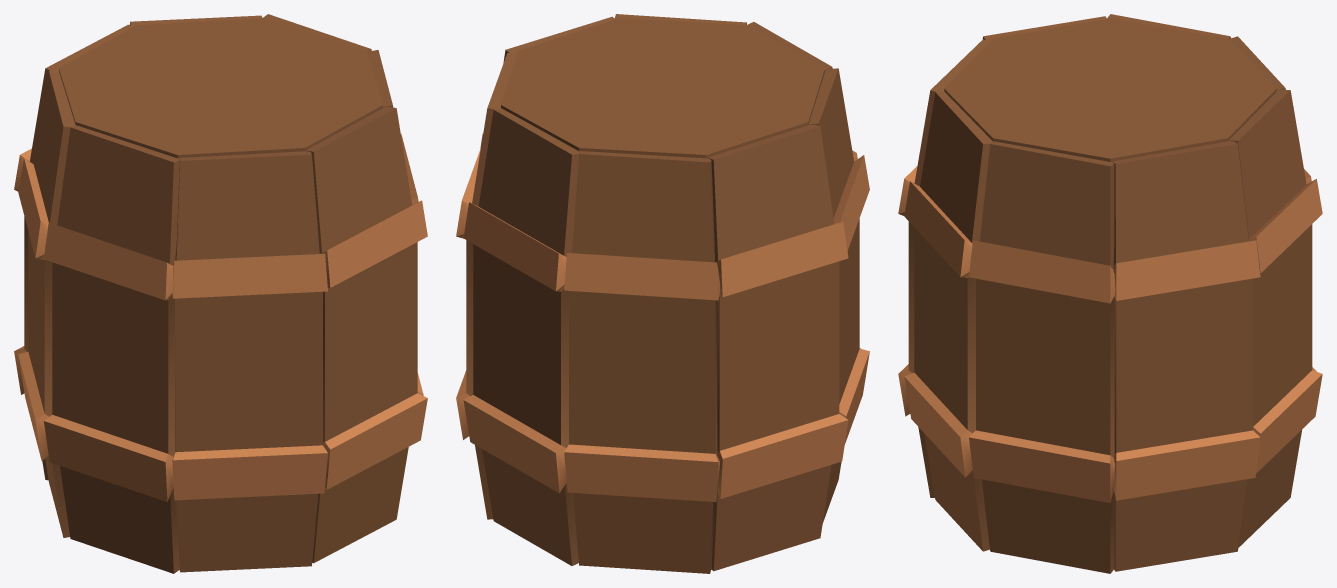
File: cask_broken.fbx
3 renders of one model, left to right at view 1: azimuth 30°, elevation 25°; view 2: azimuth 150°, elevation 25°; view 3: azimuth 270°, elevation 25°, orthographic.
Visible parts, largest first — view 1: cask_broken, cask_broken001, cask_broken007, cask_broken008, cask_broken002, cask_broken003, cask_broken006, cask_broken005, cask_broken004; view 2: cask_broken003, cask_broken002, cask_broken004, cask_broken008, cask_broken001, cask_broken005, cask_broken, cask_broken006; view 3: cask_broken005, cask_broken006, cask_broken008, cask_broken007, cask_broken004, cask_broken, cask_broken003.
Boxes of the visible parts, <box> form: cask_broken: <box>172,151,327,572</box>; cask_broken001: <box>43,125,179,573</box>; cask_broken007: <box>306,107,427,563</box>; cask_broken008: <box>59,18,382,158</box>; cask_broken002: <box>18,71,75,537</box>; cask_broken003: <box>14,24,132,480</box>; cask_broken006: <box>367,50,423,395</box>; cask_broken005: <box>263,14,371,52</box>; cask_broken004: <box>129,15,262,26</box>; cask_broken003: <box>564,151,720,573</box>; cask_broken002: <box>708,124,848,571</box>; cask_broken004: <box>463,108,580,565</box>; cask_broken008: <box>501,18,824,158</box>; cask_broken001: <box>808,68,869,523</box>; cask_broken005: <box>456,53,516,519</box>; cask_broken: <box>747,22,860,348</box>; cask_broken006: <box>480,16,614,252</box>; cask_broken005: <box>1112,141,1260,571</box>; cask_broken006: <box>969,141,1115,573</box>; cask_broken008: <box>944,18,1276,161</box>; cask_broken007: <box>904,92,993,551</box>; cask_broken004: <box>1228,89,1322,547</box>; cask_broken: <box>898,39,989,497</box>; cask_broken003: <box>1229,36,1316,371</box>.
Bounding box in the file's own units: 120 × 128 × 120.
Materials: 1 (1 with a texture image).
